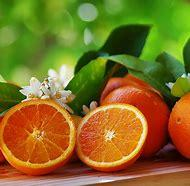orange: (70, 104, 149, 174), (112, 68, 179, 147), (6, 92, 72, 168), (167, 85, 190, 147)
